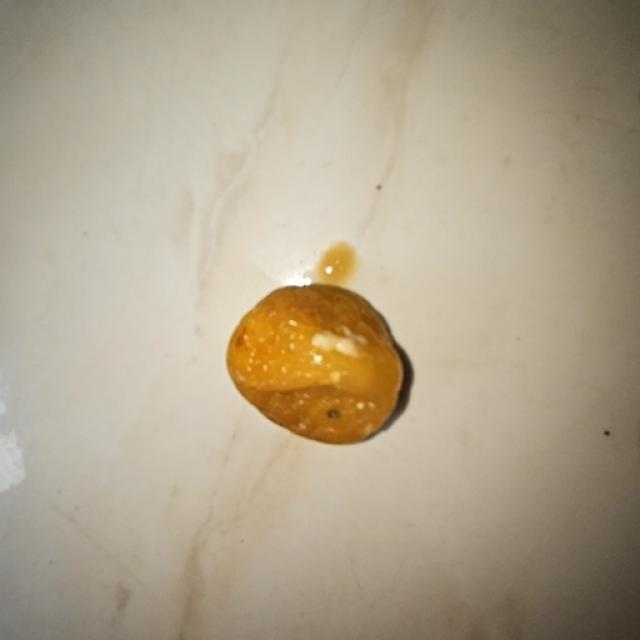Red: (225, 281, 406, 445)
